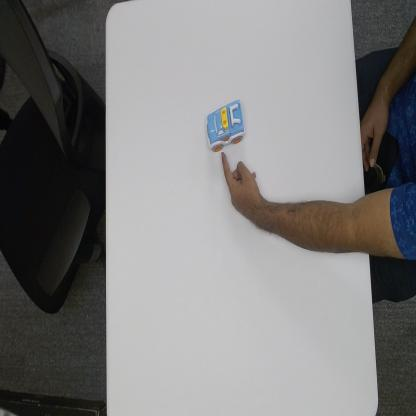Arm: (260, 191, 369, 254)
Car: (206, 99, 246, 151)
Hand: (220, 151, 261, 222)
